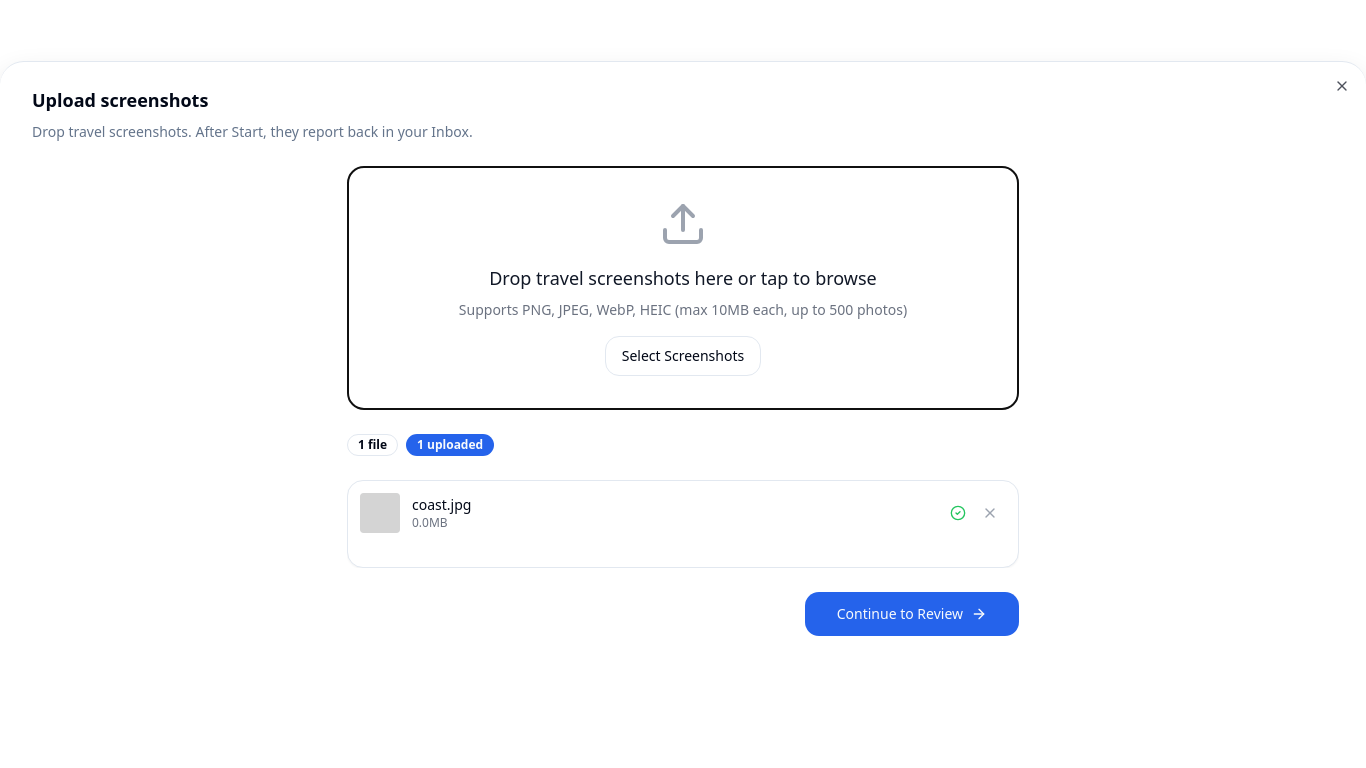
Scenario: discarding an upload before Start › keepalive-cancels the session when the page is discarded before Start
Click the button "Continue to Review" at x=912, y=614, box [805,592,1019,636]
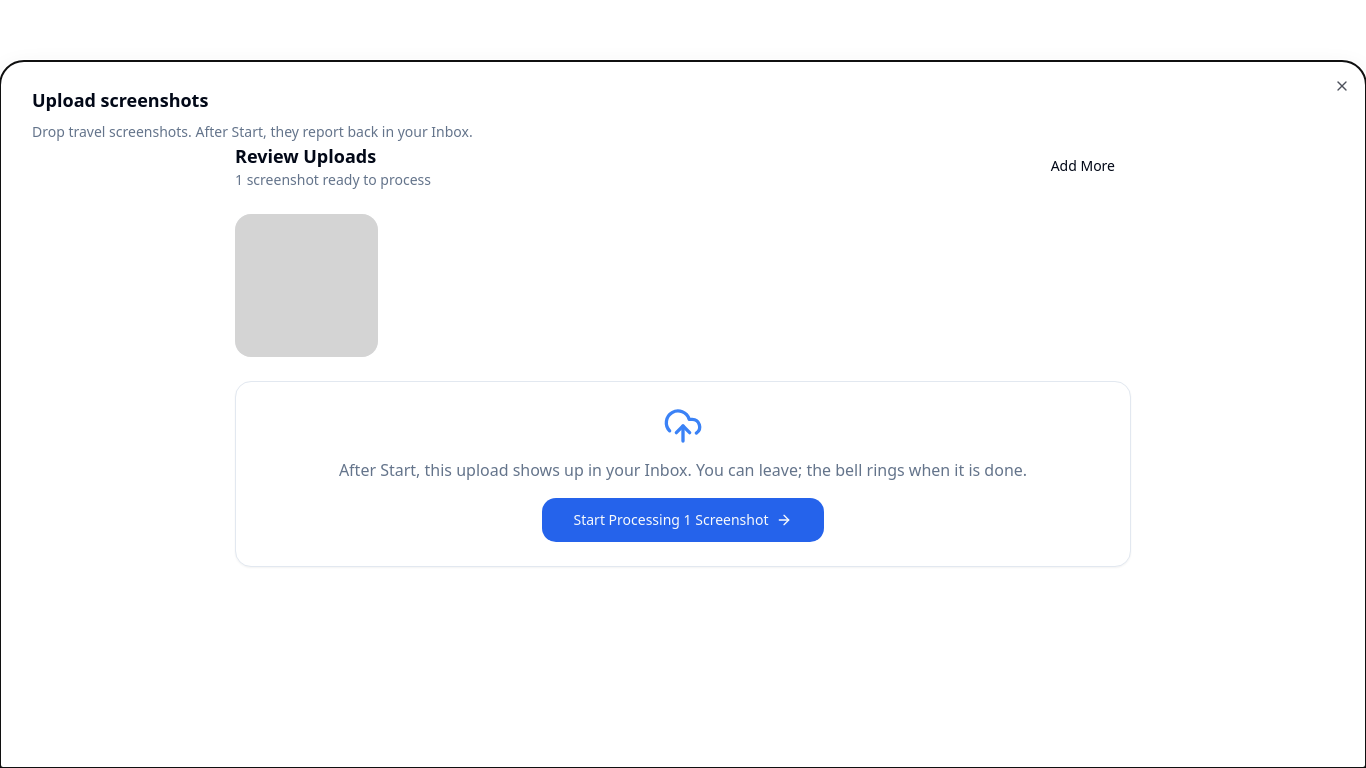
expect the button "Start Processing 1 Screenshot" is shown: met, box [542,498,824,542]
